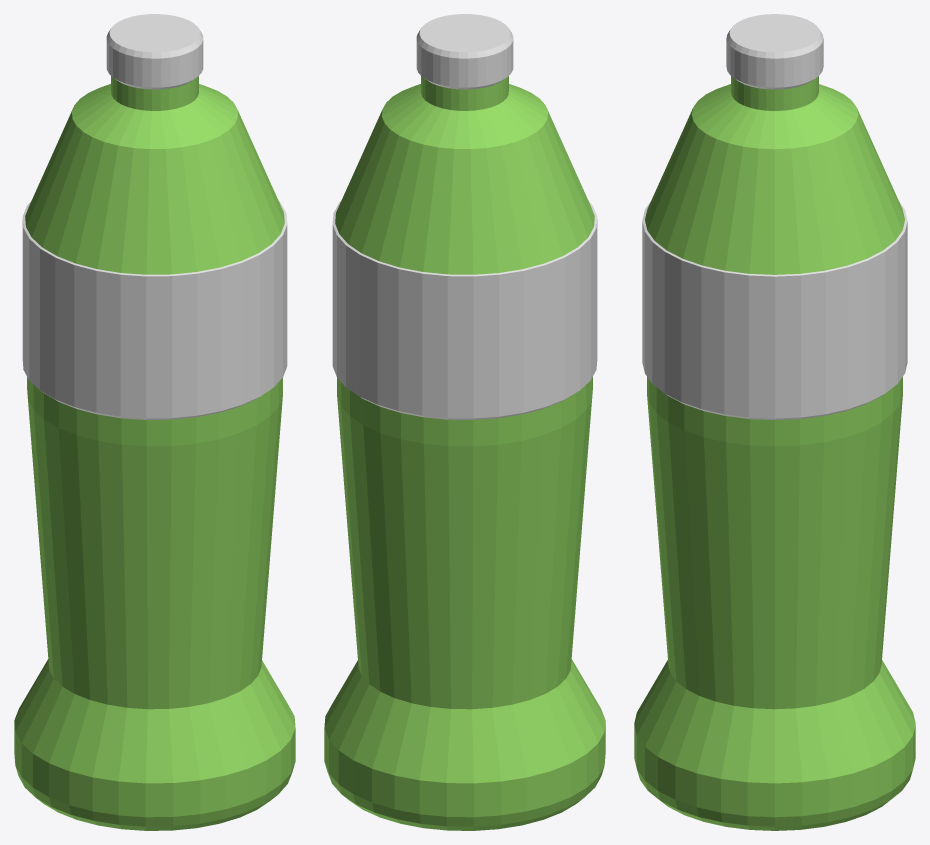
File: Plastic1 (2).fbx
3 views of the same model, side by side, from view 1: azimuth 30°, elevation 25°; view 2: azimuth 150°, elevation 25°; view 3: azimuth 270°, elevation 25° (orthographic).
Parts seen in each view (by area): view 1: Cylinder; view 2: Cylinder; view 3: Cylinder.
Part boxes in pixels (x1=…): Cylinder: x1=14, y1=14, x2=295, y2=830; Cylinder: x1=324, y1=14, x2=605, y2=830; Cylinder: x1=634, y1=14, x2=915, y2=830.
Bounding box in the file's own units: 200 × 585 × 200.
